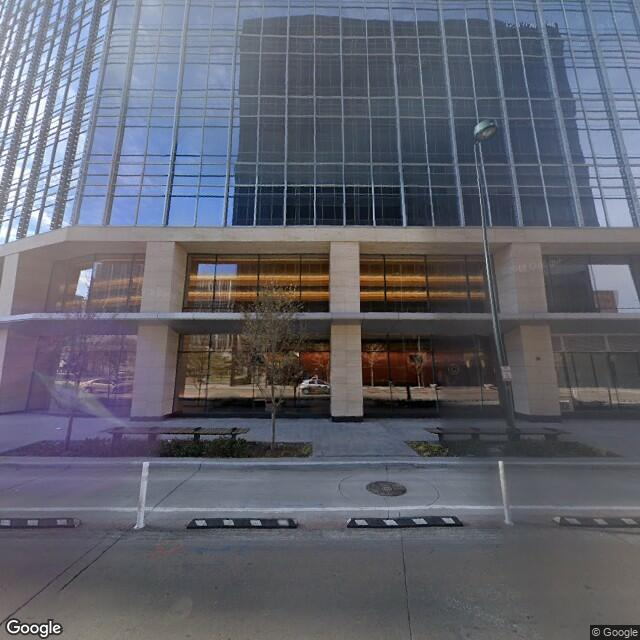lamp: (455, 115, 521, 419)
